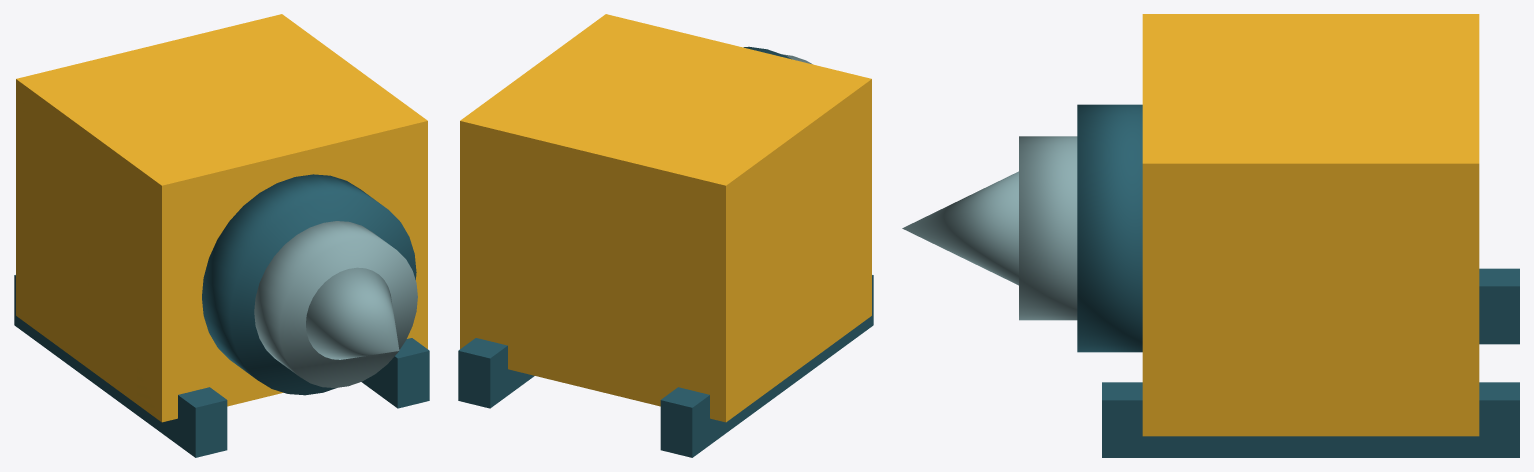
File: drill.glb
3 views of the same model, side by side, from view 1: azimuth 30°, elevation 25°; view 2: azimuth 150°, elevation 25°; view 3: azimuth 270°, elevation 25° (orthographic). The views are drawn at different scales.
Visible parts, largest first — view 1: Drill housing, Drill collar, Drill spindle, Drill bit, Drill support, Drill support.001; view 2: Drill housing, Drill support, Drill support.001; view 3: Drill housing, Drill collar, Drill support.001, Drill spindle, Drill bit, Drill support.
Boxes of the visible parts, <box> form: Drill housing: <box>16,14,427,422</box>; Drill collar: <box>202,174,416,395</box>; Drill spindle: <box>254,221,417,387</box>; Drill bit: <box>306,267,399,359</box>; Drill support: <box>14,275,227,457</box>; Drill support.001: <box>361,338,429,408</box>; Drill housing: <box>460,14,871,422</box>; Drill support: <box>660,275,873,457</box>; Drill support.001: <box>458,338,534,408</box>; Drill housing: <box>1142,14,1479,436</box>; Drill collar: <box>1077,104,1142,352</box>; Drill support.001: <box>1102,382,1519,457</box>; Drill spindle: <box>1019,136,1077,320</box>; Drill bit: <box>902,171,1018,285</box>; Drill support: <box>1479,268,1519,344</box>.
Size of the model in its own units: 1 by 0.945 by 1.74.
